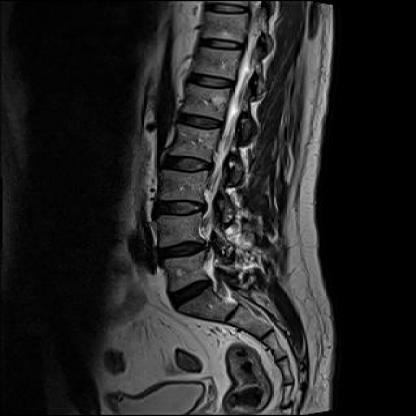Degenerative Disc Diseaserotation: (153, 240, 217, 263), (164, 279, 219, 305)
Disc Bulgerotation: (152, 236, 220, 266)
Disc Relaxationrotation: (148, 196, 213, 224)
